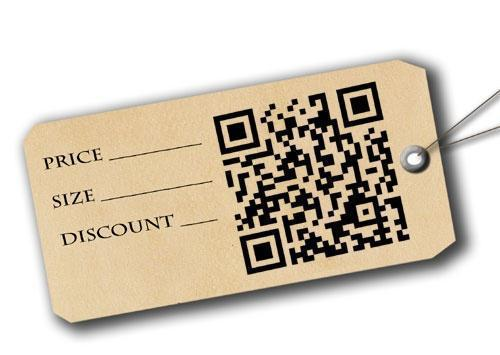qr_code: (213, 81, 410, 275)
